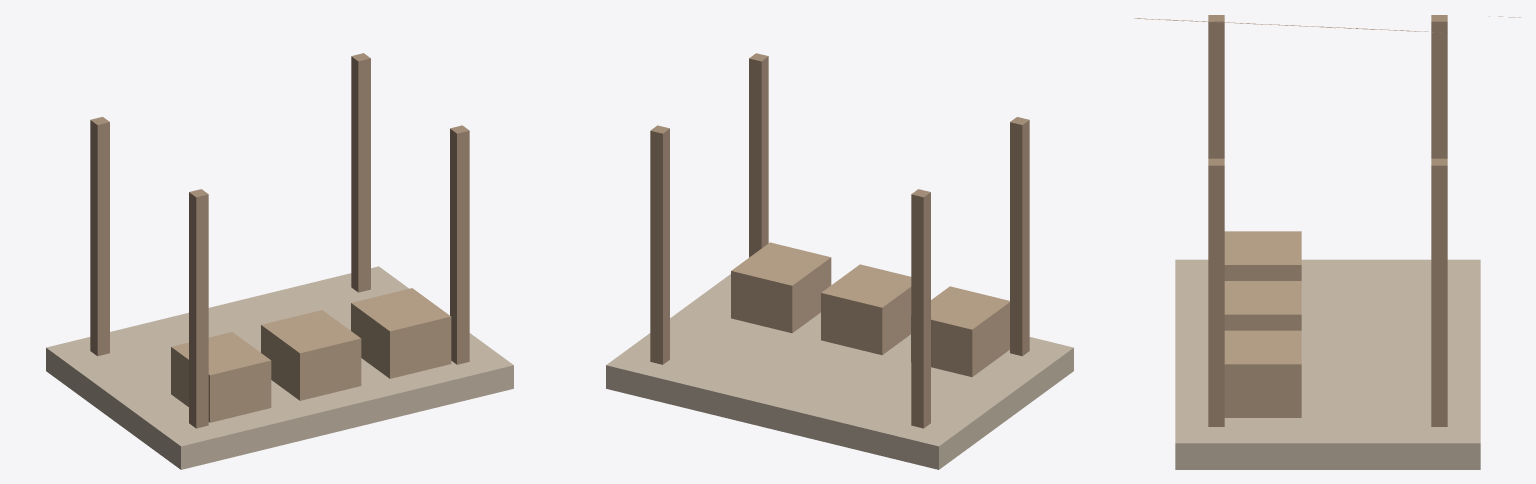
File: market_1000_3.glb
3 renders of one model, left to right at view 1: azimuth 30°, elevation 25°; view 2: azimuth 150°, elevation 25°; view 3: azimuth 270°, elevation 25°, orthographic. The views are drawn at different scales.
Parts seen in each view (by area): view 1: market_1000_3_0, market_1000_3_7, market_1000_3_8, market_1000_3_6, market_1000_3_1, market_1000_3_2, market_1000_3_3, market_1000_3_4; view 2: market_1000_3_0, market_1000_3_8, market_1000_3_7, market_1000_3_6, market_1000_3_1, market_1000_3_3, market_1000_3_2, market_1000_3_4; view 3: market_1000_3_0, market_1000_3_8, market_1000_3_3, market_1000_3_4, market_1000_3_6, market_1000_3_7, market_1000_3_1, market_1000_3_2.
Boxes of the visible parts, box(x1,y1,x2,y2) form: market_1000_3_0: box(46, 266, 513, 469); market_1000_3_7: box(261, 310, 361, 400); market_1000_3_8: box(351, 288, 451, 378); market_1000_3_6: box(171, 332, 271, 422); market_1000_3_1: box(90, 117, 109, 356); market_1000_3_2: box(189, 189, 208, 428); market_1000_3_3: box(351, 53, 370, 292); market_1000_3_4: box(450, 125, 469, 364); market_1000_3_0: box(606, 274, 1073, 469); market_1000_3_8: box(731, 242, 831, 333); market_1000_3_7: box(821, 264, 911, 355); market_1000_3_6: box(911, 286, 1009, 376); market_1000_3_1: box(911, 189, 930, 428); market_1000_3_3: box(650, 125, 669, 364); market_1000_3_2: box(1010, 117, 1029, 356); market_1000_3_4: box(749, 53, 768, 257); market_1000_3_0: box(1175, 259, 1480, 469); market_1000_3_8: box(1224, 330, 1301, 417); market_1000_3_3: box(1431, 158, 1447, 426); market_1000_3_4: box(1208, 158, 1224, 426); market_1000_3_6: box(1224, 231, 1301, 280); market_1000_3_7: box(1224, 281, 1301, 330); market_1000_3_1: box(1431, 15, 1447, 158); market_1000_3_2: box(1208, 15, 1224, 158).
Bounding box in the file's own units: 4 × 3.29 × 3.3.
